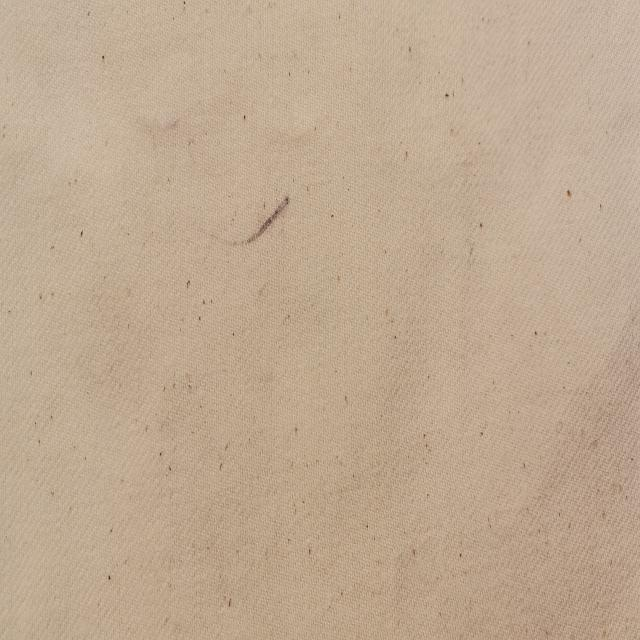taaaches: (216, 193, 298, 255)
